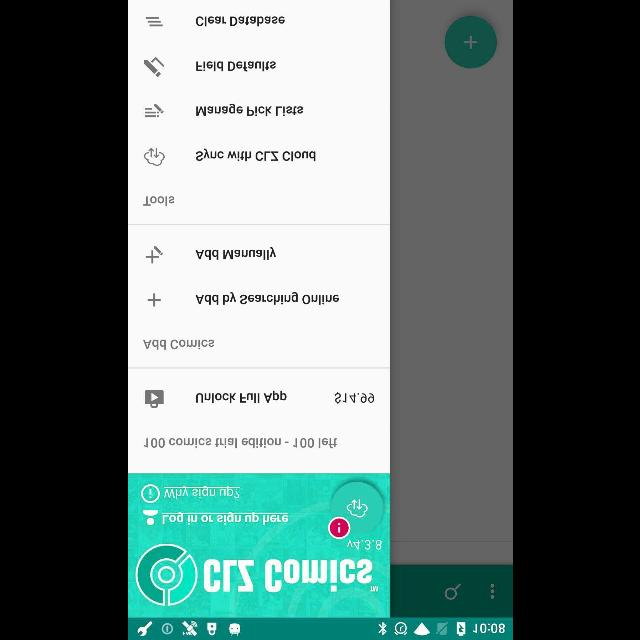button: (444, 16, 496, 68)
icon: (326, 516, 349, 538), (142, 56, 164, 78), (140, 483, 160, 502), (346, 499, 366, 517), (144, 148, 164, 166), (144, 390, 164, 408), (145, 246, 163, 264), (444, 582, 460, 600), (144, 104, 164, 118), (142, 509, 158, 525), (147, 293, 161, 307), (145, 17, 163, 27), (490, 583, 494, 599)
image: (135, 544, 197, 606)
panel: (128, 0, 388, 618)
text: (202, 558, 378, 592), (195, 292, 339, 306), (143, 438, 337, 448), (160, 512, 288, 526), (195, 148, 315, 162), (195, 390, 287, 404), (195, 104, 302, 116), (194, 246, 276, 260), (196, 16, 284, 27), (163, 486, 239, 498), (195, 62, 275, 72), (142, 340, 214, 350), (334, 392, 374, 404), (346, 540, 382, 550), (142, 196, 174, 207)
uppertaskbar: (128, 617, 512, 639)
